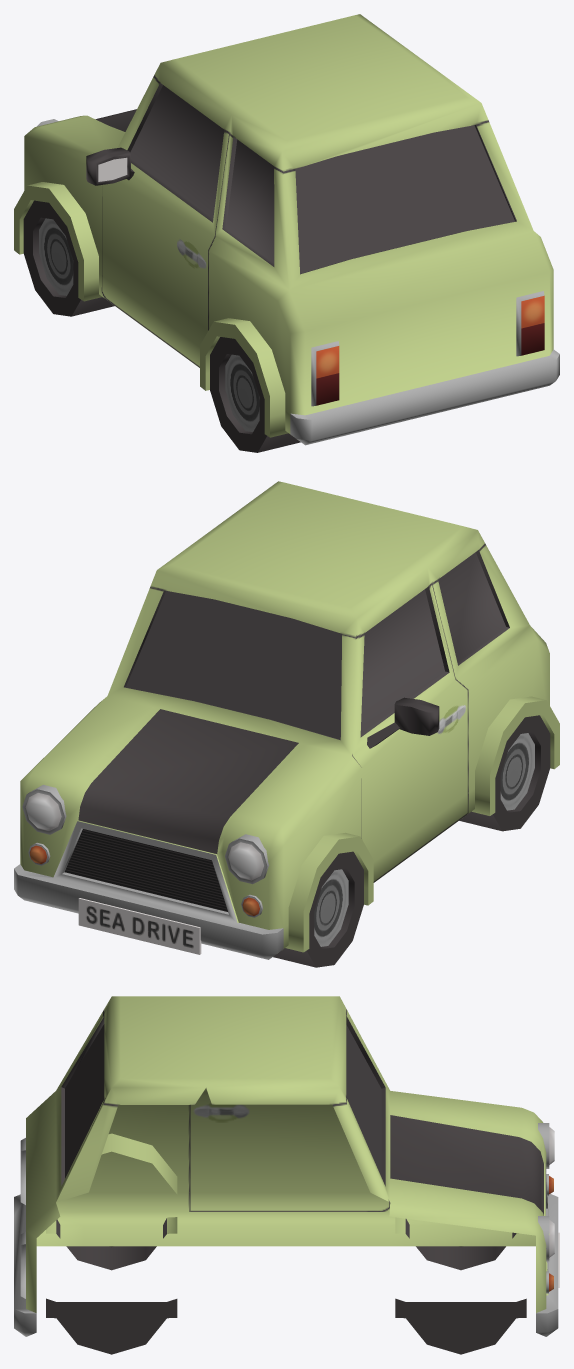
The model's file is car.gltf.
3 views of the same model, one above another, from view 1: azimuth 30°, elevation 25°; view 2: azimuth 150°, elevation 25°; view 3: azimuth 270°, elevation 25° (orthographic). The views are drawn at different scales.
Visible parts, largest first — view 1: WheelBack_Object; view 2: WheelBack_Object; view 3: WheelBack_Object.
Boxes of the visible parts, bbox=[...] form: WheelBack_Object: bbox=[14, 14, 559, 452]; WheelBack_Object: bbox=[14, 481, 559, 967]; WheelBack_Object: bbox=[14, 996, 559, 1354].
Bounding box in the file's own units: 2.53 × 2.29 × 4.12.
